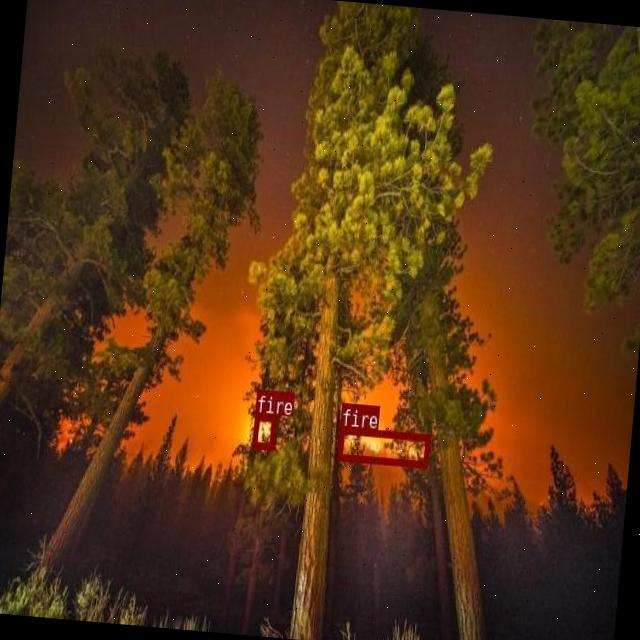fire: (338, 426, 430, 466), (252, 412, 276, 448)
